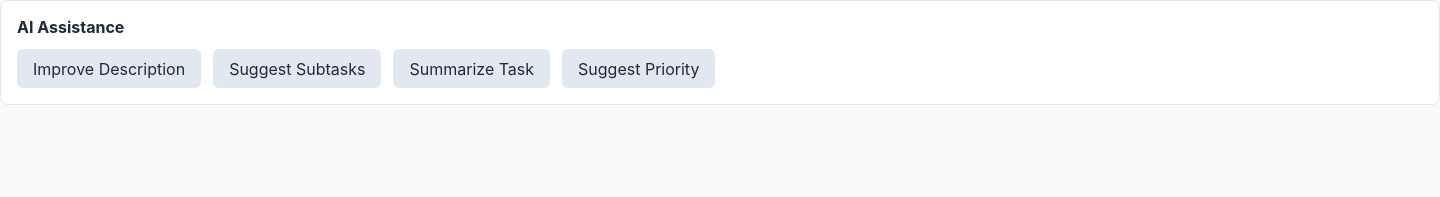
Scenario: AiTaskTools › displays a generated summary
The image size is (1440, 197).
Click the button "Summarize Task".
click(472, 69)  # box [394, 49, 550, 88]
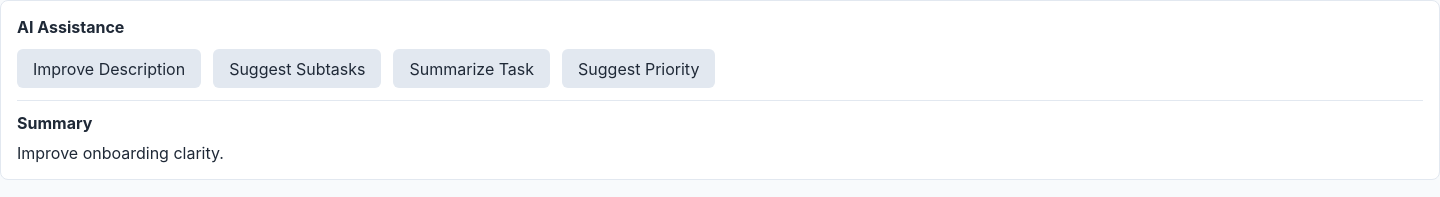
Check: the text "Improve onboarding clarity." is shown, box [17, 143, 224, 163]
